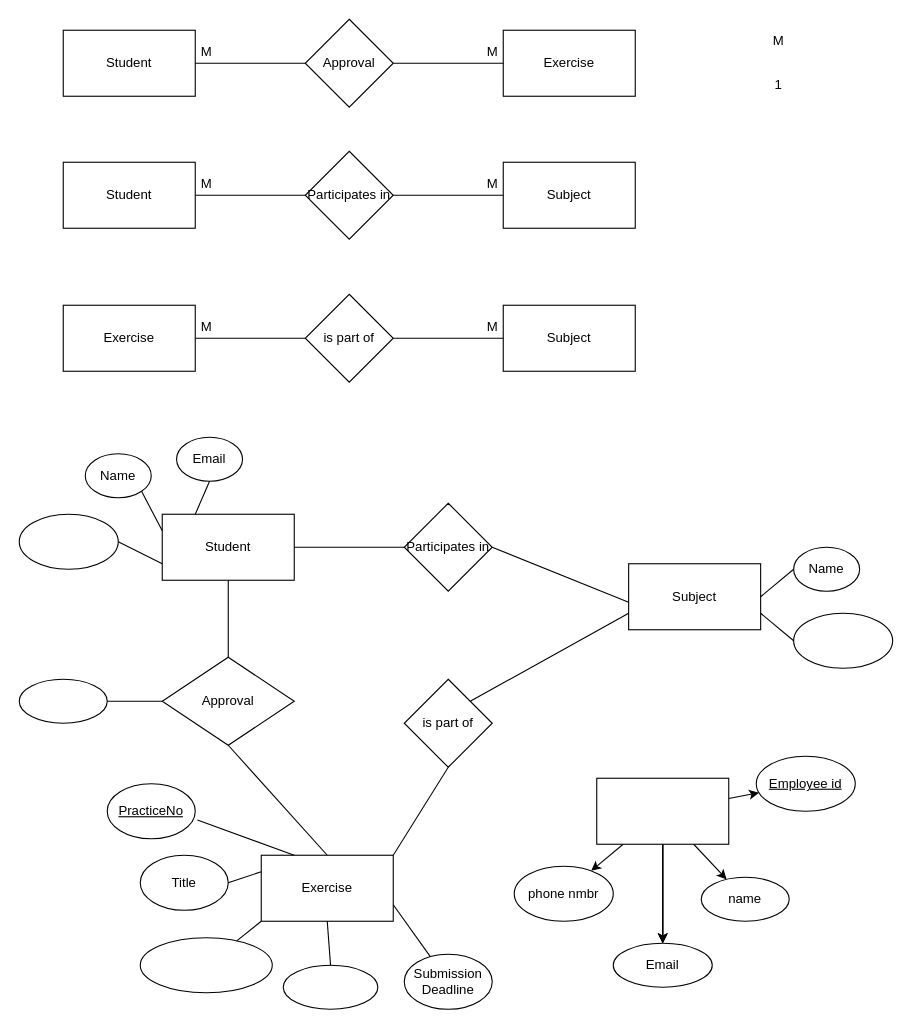
Some shapes in this 912 by 1029 pixel diagram are drawn without their labels. Here are the shapes that lost their labels. From the top down, the centre of each, then its label:
point (68, 541): StudentNo
point (843, 640): SubjectNo
point (62, 700): Date
point (662, 810): Teaching assistant
point (205, 965): Assignment Text
point (330, 986): Solution Proposal
